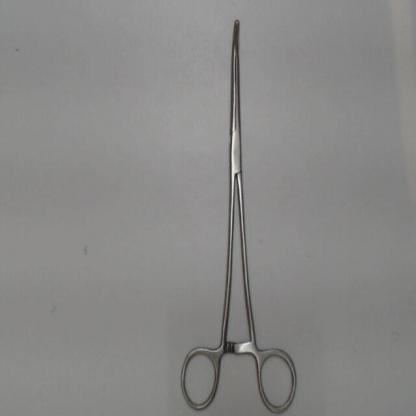Lahey Forceps: (176, 16, 300, 415)
